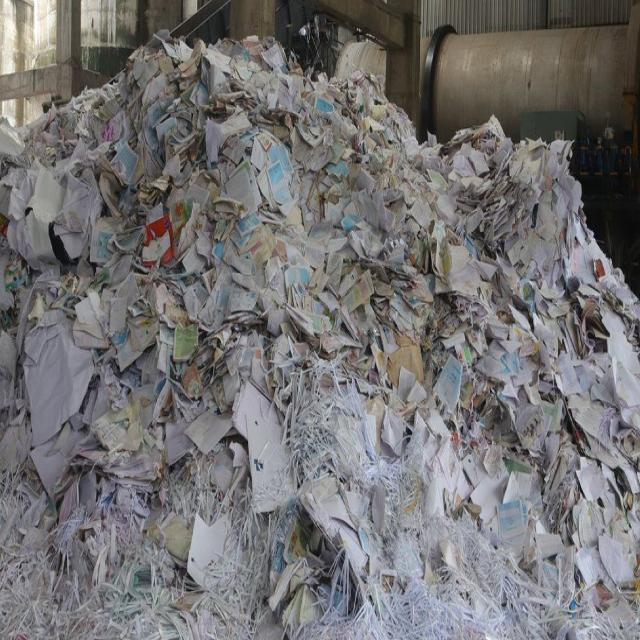Paper -Biodegradable-: (0, 39, 640, 640)
